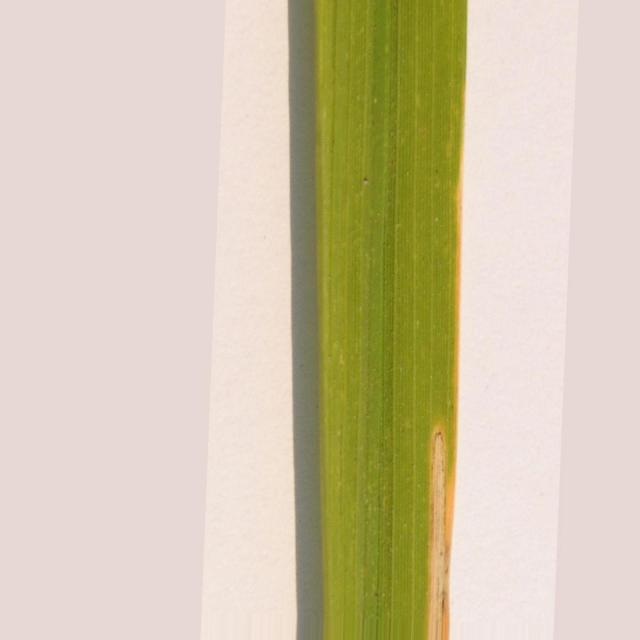Bacterial_Leaf_Blight: (428, 430, 449, 639)
